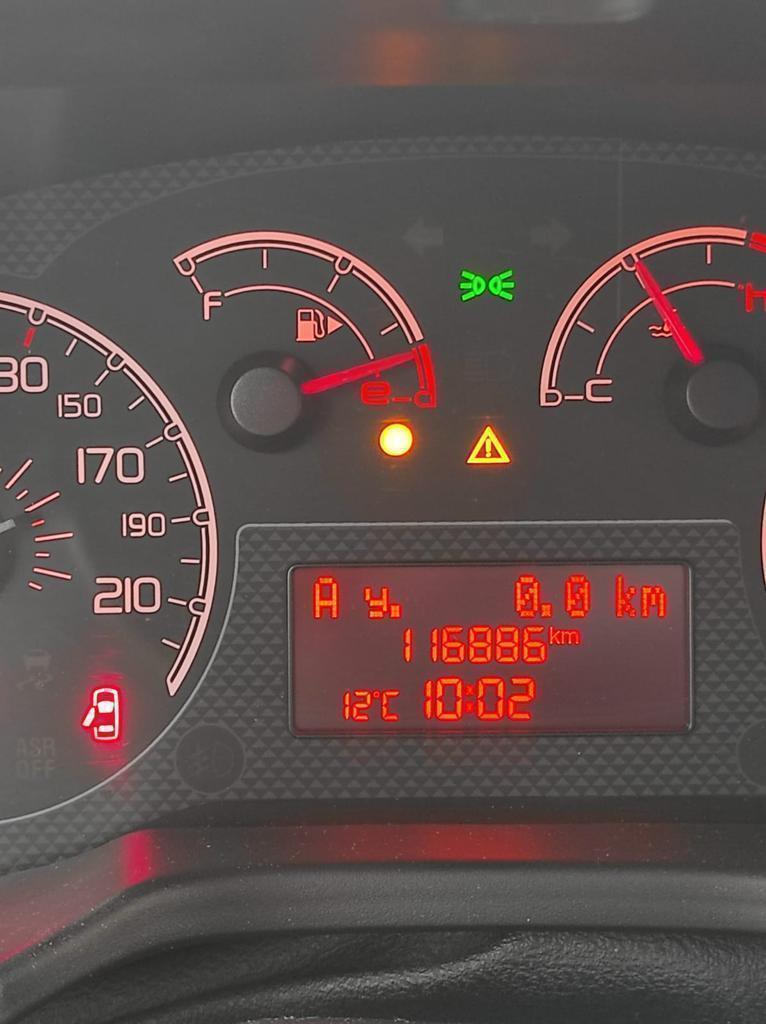,: (389, 602, 402, 620), (540, 602, 553, 618)
0: (475, 674, 506, 723), (434, 674, 464, 722), (562, 571, 592, 619), (511, 572, 540, 619)
1: (400, 624, 415, 664), (420, 677, 433, 721), (426, 624, 439, 663), (340, 688, 351, 722)
2: (507, 673, 538, 723), (351, 687, 371, 723)
6: (440, 622, 466, 665), (521, 622, 547, 665)
8: (495, 622, 521, 666), (467, 623, 493, 665)
X: (310, 573, 340, 620), (611, 570, 638, 619), (638, 582, 669, 619), (361, 584, 389, 621), (381, 686, 400, 724), (560, 628, 580, 646), (465, 682, 474, 715), (548, 622, 560, 645)
odometer: (284, 558, 696, 740)
